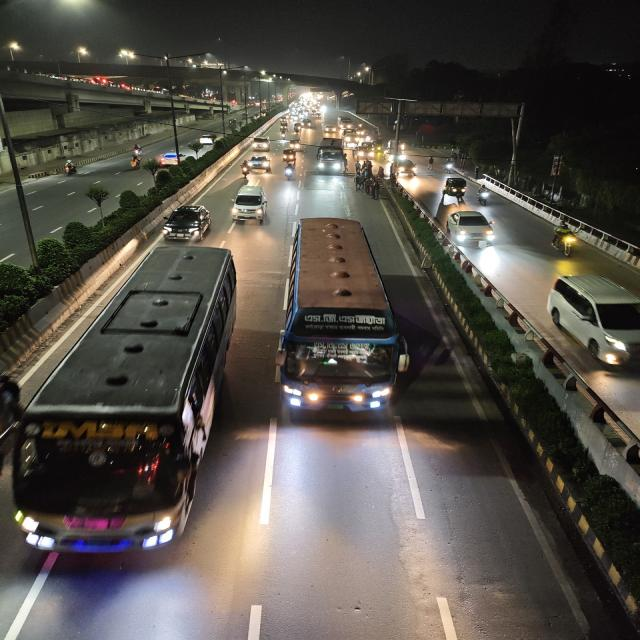bus: (12, 243, 238, 567), (278, 213, 406, 417), (314, 137, 347, 177), (338, 116, 355, 130)
car: (544, 271, 640, 371), (442, 207, 498, 249), (160, 202, 213, 242), (230, 183, 269, 225), (243, 154, 273, 174), (156, 152, 188, 168), (395, 158, 419, 177), (196, 130, 222, 146), (249, 136, 273, 152), (323, 125, 338, 134)
cng: (441, 175, 470, 202), (280, 148, 298, 164), (286, 138, 302, 152)
motorcycle: (546, 221, 582, 259), (474, 183, 493, 207), (60, 158, 83, 177), (128, 142, 146, 164), (126, 154, 144, 170), (282, 162, 296, 182), (442, 157, 458, 173), (239, 161, 252, 178), (277, 130, 289, 139)
pedestrian: (367, 179, 379, 199), (354, 174, 364, 192), (426, 155, 436, 169)
